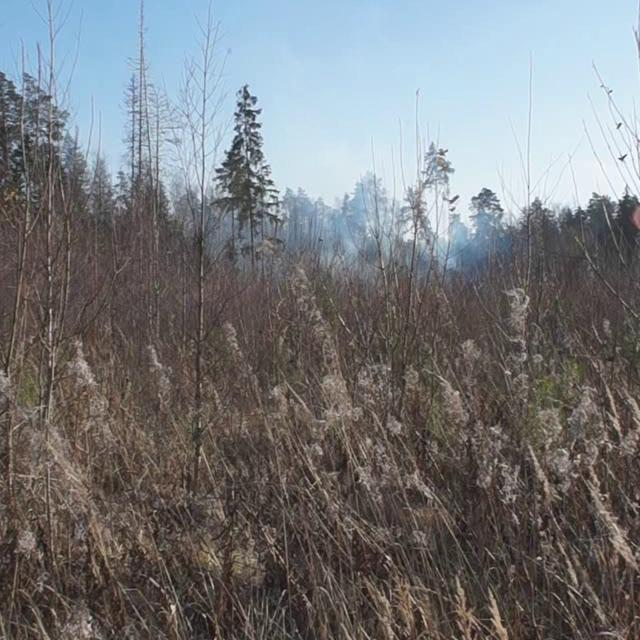Smoke: (166, 169, 520, 301)
